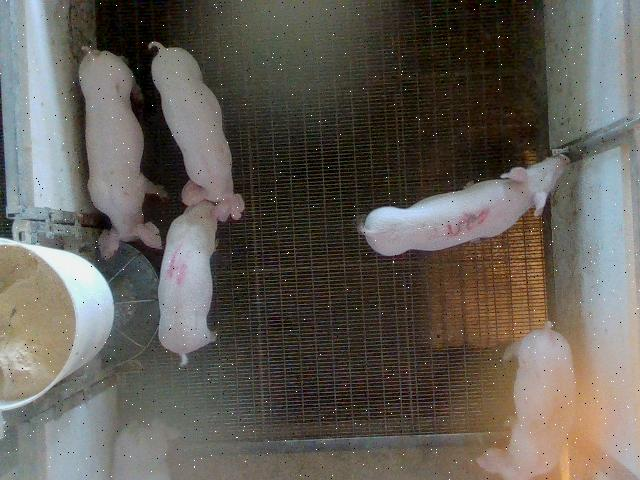pig-1: (478, 321, 576, 479)
pig-3: (360, 155, 570, 256)
pig-4: (159, 182, 236, 364)
